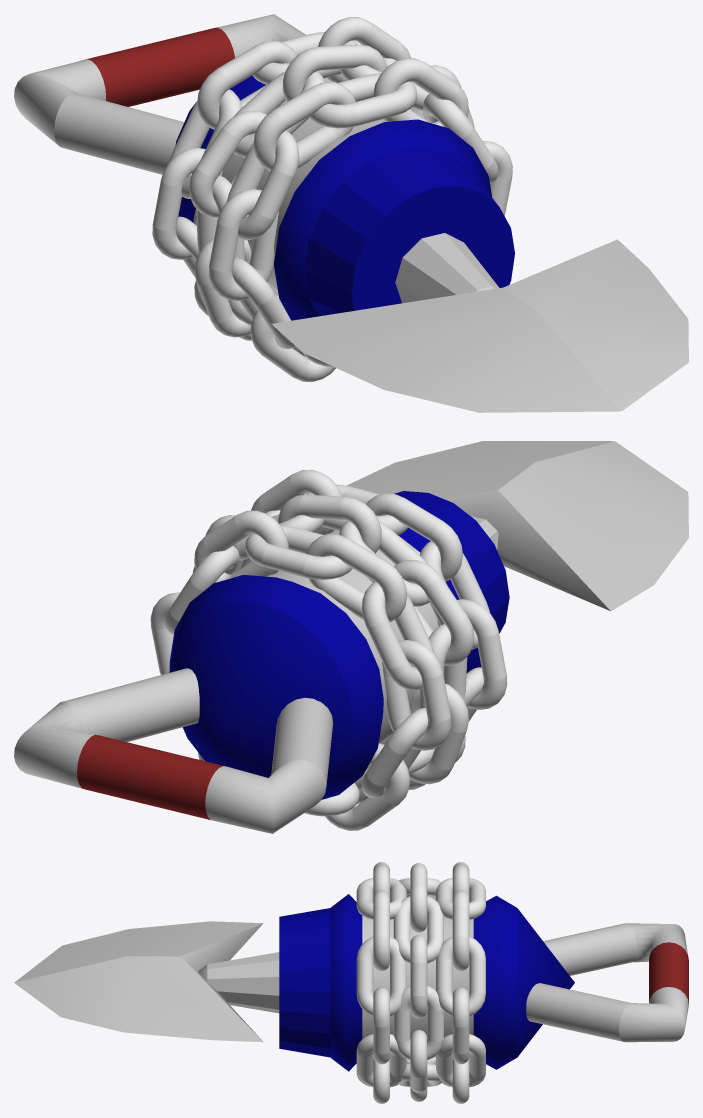
Rendered from HookShot_WH.fbx.
3 views of the same model, one above another, from view 1: azimuth 30°, elevation 25°; view 2: azimuth 150°, elevation 25°; view 3: azimuth 270°, elevation 25° (orthographic). The views are drawn at different scales.
Parts seen in each view (by area): view 1: Handel2, Hook1, Chain_Ring3, Chain_Ring1, Chain_Ring2; view 2: Handel2, Hook1, Chain_Ring1, Chain_Ring2, Chain_Ring3; view 3: Handel2, Hook1, Chain_Ring1, Chain_Ring3, Chain_Ring2.
Part boxes in pixels (x1,y1,x2,y2): Handel2: (14, 14, 514, 320); Hook1: (271, 233, 688, 412); Chain_Ring3: (208, 58, 512, 381); Chain_Ring1: (152, 17, 429, 340); Chain_Ring2: (189, 44, 474, 357); Handel2: (14, 491, 509, 833); Hook1: (346, 441, 688, 611); Chain_Ring1: (150, 510, 451, 830); Chain_Ring2: (192, 494, 474, 803); Chain_Ring3: (233, 469, 507, 789); Handel2: (279, 894, 688, 1071); Hook1: (14, 921, 279, 1042); Chain_Ring1: (436, 862, 485, 1103); Chain_Ring3: (356, 862, 406, 1103); Chain_Ring2: (393, 863, 443, 1101).
Bounding box in the file's own units: 0.2248 × 0.1918 × 0.5301.
